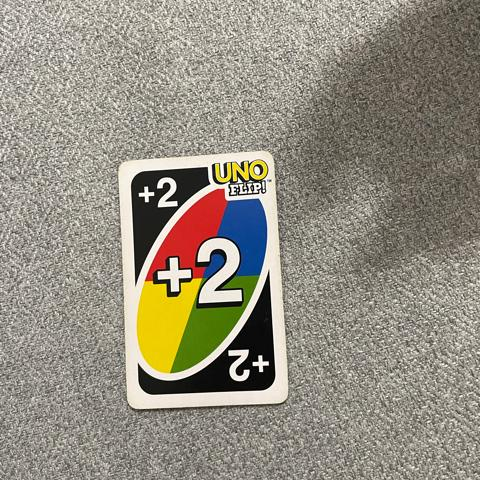lcolor2-50: (128, 172, 182, 214)
